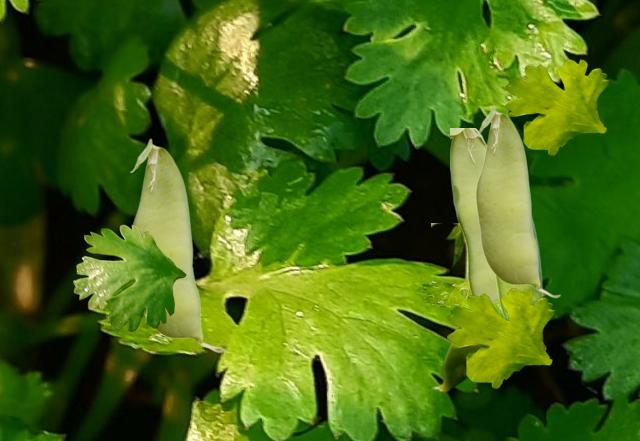pea: (129, 138, 225, 352), (474, 105, 560, 297), (431, 223, 481, 392), (450, 128, 497, 303), (494, 213, 545, 345)
